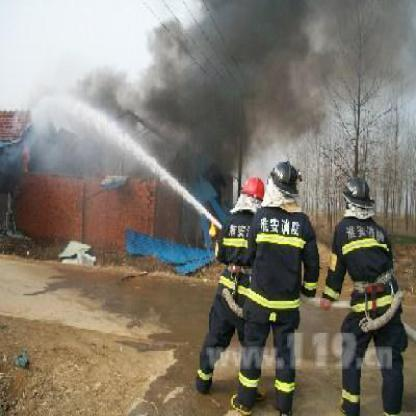smoke: (96, 61, 290, 169), (152, 2, 400, 76), (286, 72, 334, 154)
